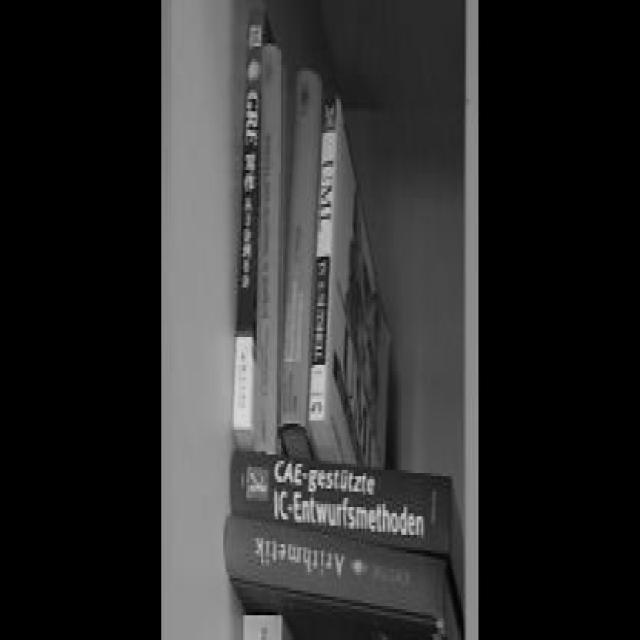book: (220, 449, 464, 640), (313, 90, 399, 527), (283, 72, 307, 444)
